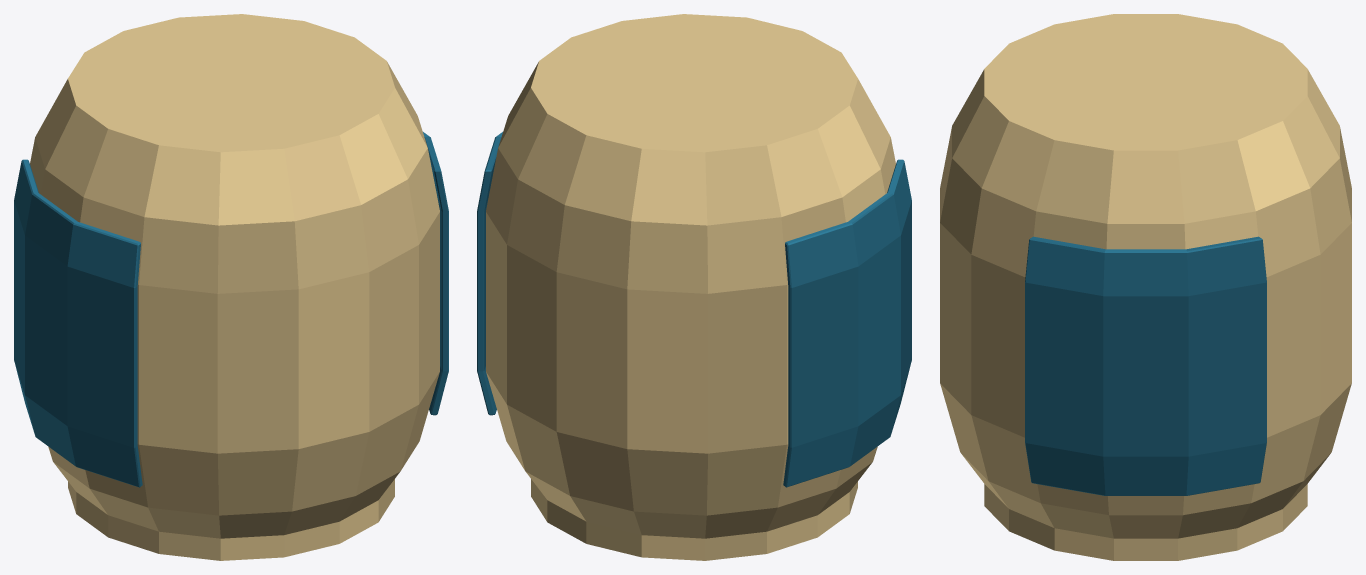
Rendered from ER_ObservationCabin.fbx.
3 renders of one model, left to right at view 1: azimuth 30°, elevation 25°; view 2: azimuth 150°, elevation 25°; view 3: azimuth 270°, elevation 25°, orthographic.
Parts seen in each view (by area): view 1: ER_ObservationCabin; view 2: ER_ObservationCabin; view 3: ER_ObservationCabin.
Part boxes in pixels (box(x1,y1,x2,y2)): ER_ObservationCabin: box(14, 14, 448, 560); ER_ObservationCabin: box(477, 14, 911, 560); ER_ObservationCabin: box(940, 14, 1351, 560).
Bounding box in the file's own units: 1.04 × 1.1 × 1.
Materials: 2 (2 with a texture image).
